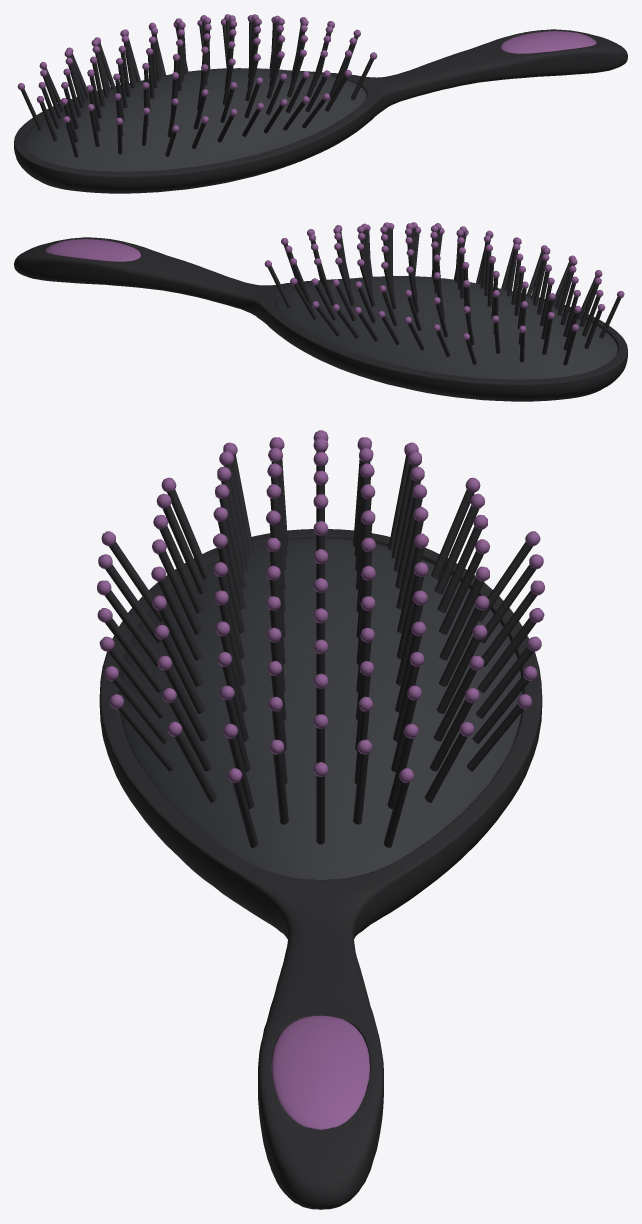
File: comb.glb
The picture shows the model from 3 angles, top to bottom: view 1: azimuth 30°, elevation 25°; view 2: azimuth 150°, elevation 25°; view 3: azimuth 270°, elevation 25°; orthographic projection. The views are drawn at different scales.
Visible parts, largest first — view 1: comb_01; view 2: comb_01; view 3: comb_01.
Boxes of the visible parts, x1,y1,x2,y2 form: comb_01: (14,14,627,193); comb_01: (14,222,627,401); comb_01: (97,430,544,1209).
Bounding box in the file's own units: 23.64 × 4.87 × 7.62.
Materials: 1 (1 with a texture image).
